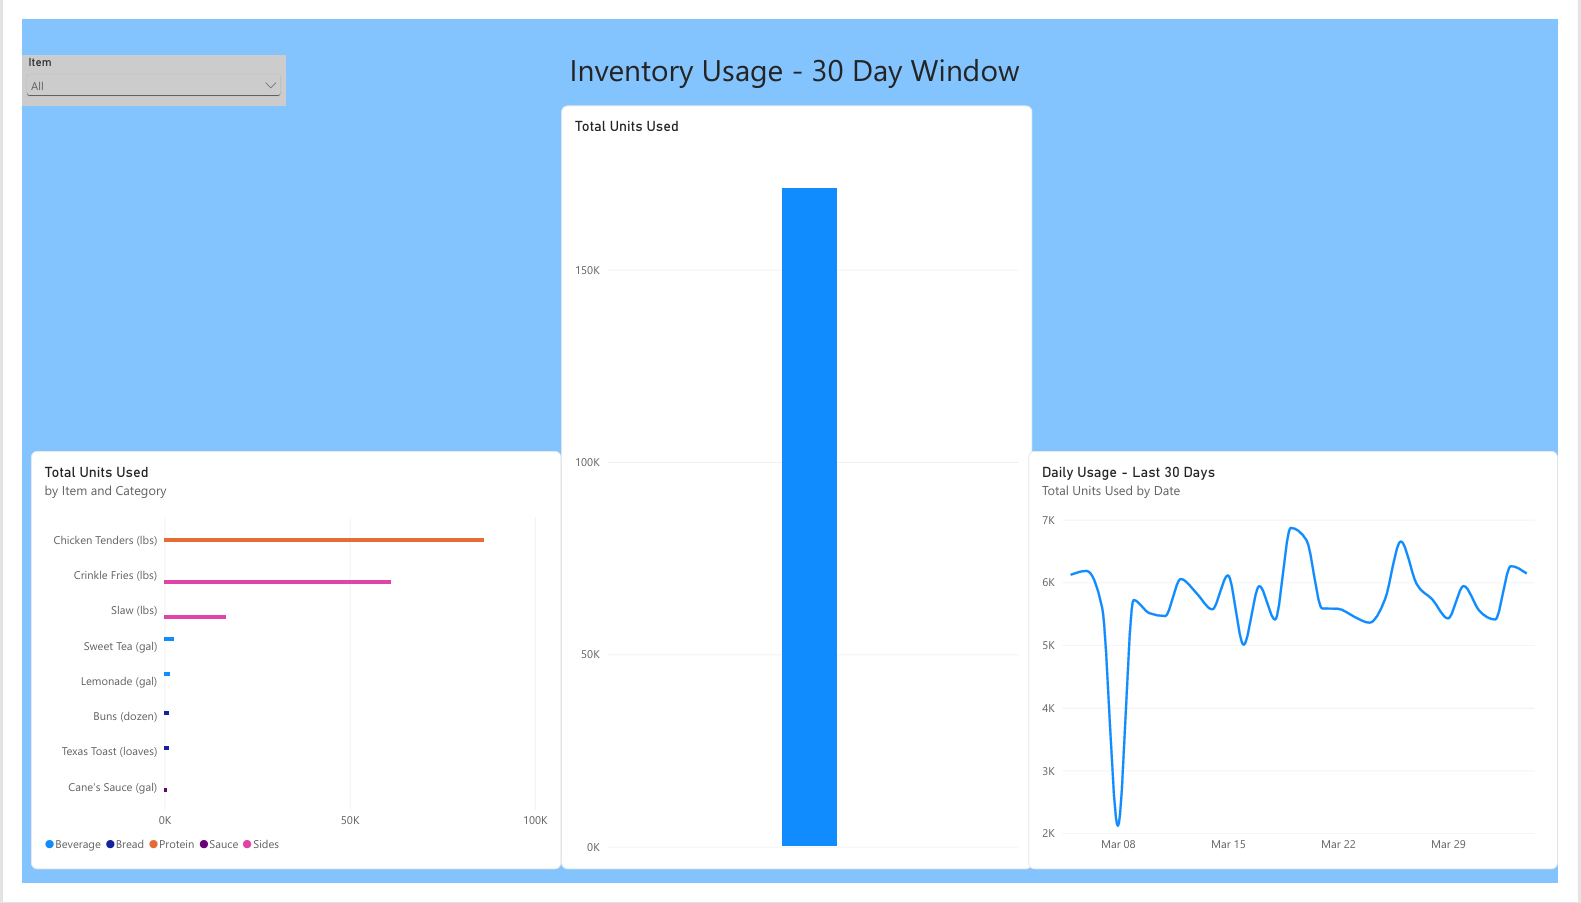

The dashboard page shown, as its layout file describes it:
{"tool":"powerbi","page":{"name":"Inventory","canvas":[1920,1080],"ordinal":2},"visuals":[{"type":"textbox","box":[10.5,36.9,1909.8,243.7],"z":0},{"type":"clusteredColumnChart","fields":{"Y":["canes_inventory_wide.Total Units Used"]},"box":[674.3,108,588.7,954.9],"z":1},{"type":"clusteredBarChart","fields":{"Category":["canes_inventory_wide.Item"],"Series":["canes_inventory_wide.Category"],"Y":["canes_inventory_wide.Total Units Used"]},"box":[10.5,540,663.8,522.9],"z":2},{"type":"slicer","fields":{"Values":["canes_inventory_wide.Item"]},"box":[0,44.8,329.3,63.2],"z":3},{"type":"lineChart","title":"Daily Usage - Last 30 Days","fields":{"Category":["canes_inventory_wide.Date"],"Y":["canes_inventory_wide.Total Units Used"]},"box":[1257.8,540,662.5,522.9],"z":4}]}

Visuals, with their boxes in screenshot pixels (x1, y1, x2, y2), scaled from the page's 1920x1080 canvas onto the 1581x903 screenshot:
textbox: region(9, 31, 1580, 235)
clusteredColumnChart - canes_inventory_wide.Total Units Used: region(555, 90, 1040, 889)
clusteredBarChart - canes_inventory_wide.Item x canes_inventory_wide.Category: region(9, 452, 555, 889)
slicer - canes_inventory_wide.Item: region(0, 37, 271, 90)
"Daily Usage - Last 30 Days" lineChart: region(1036, 452, 1580, 889)
